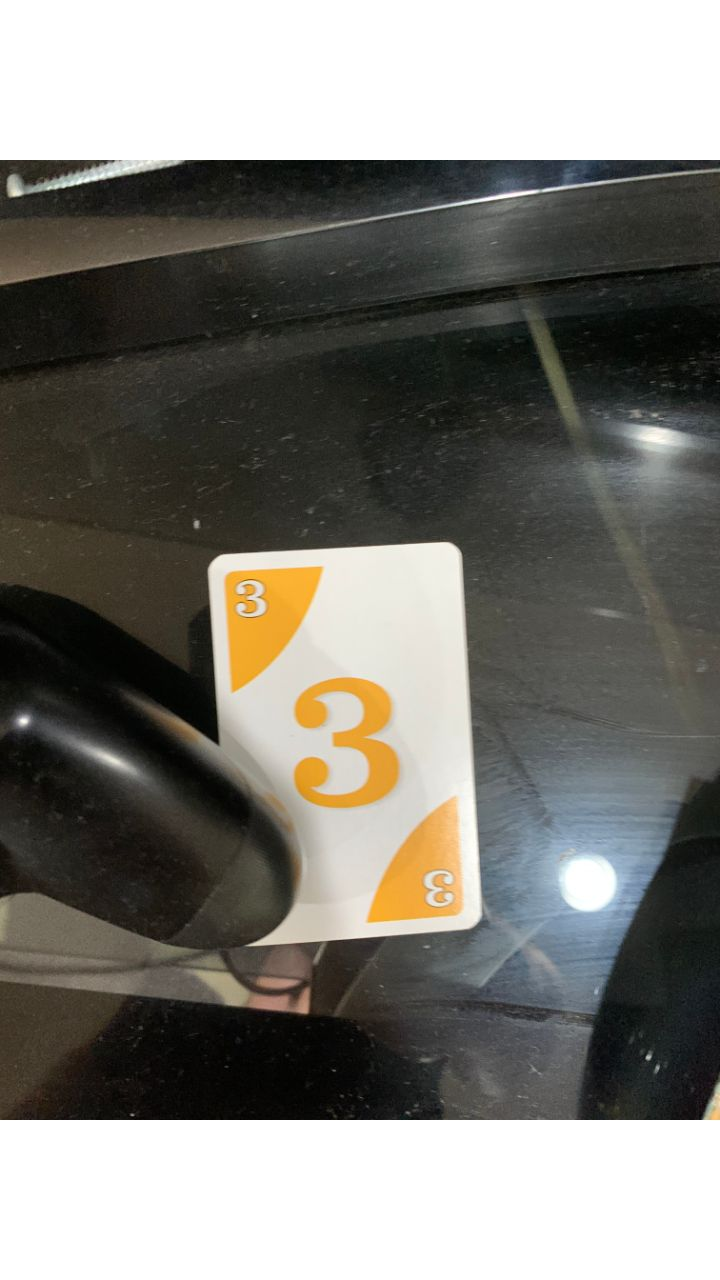three: (201, 537, 487, 947)
